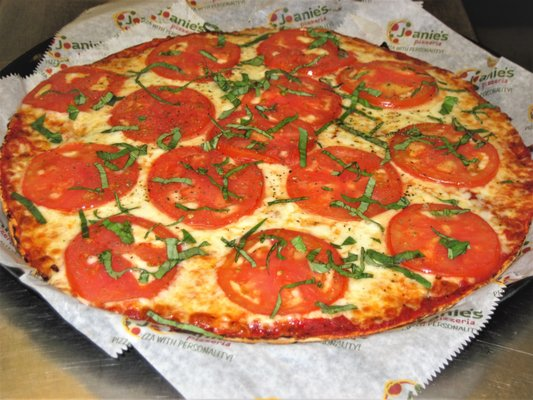sandwich: (2, 20, 533, 345)
